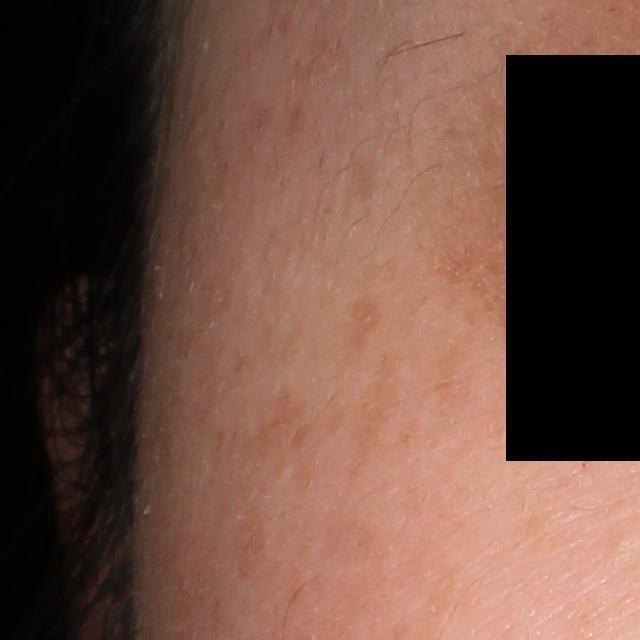melasma: (205, 376, 333, 496), (346, 348, 406, 485), (430, 338, 478, 433), (347, 290, 392, 362)
